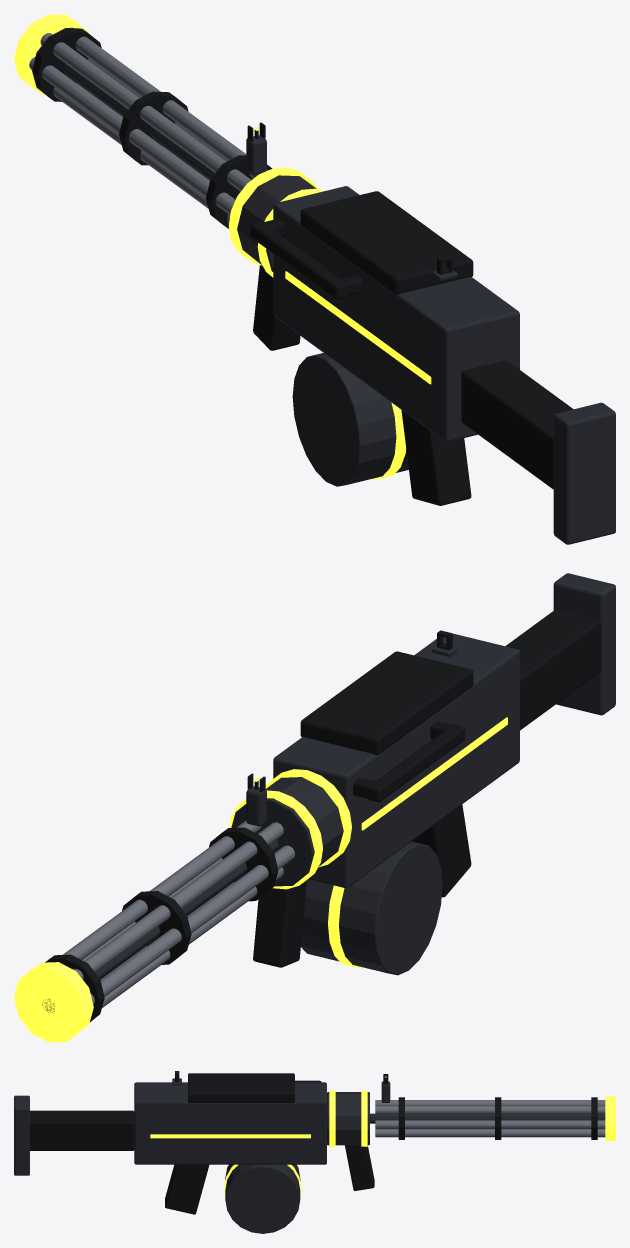
The model's file is spinlmg.glb.
The picture shows the model from 3 angles, top to bottom: view 1: azimuth 30°, elevation 25°; view 2: azimuth 150°, elevation 25°; view 3: azimuth 270°, elevation 25°; orthographic projection. The views are drawn at different scales.
Visible parts, largest first — view 1: Body, Barrels, Magazine, IronSights; view 2: Body, Barrels, Magazine, IronSights; view 3: Body, Barrels, Magazine, IronSights.
Boxes of the visible parts, left/top/right/bottom form: Body: left=228, top=167, right=615, bottom=544; Barrels: left=14, top=14, right=272, bottom=228; Magazine: left=292, top=353, right=408, bottom=486; IronSights: left=246, top=122, right=457, bottom=281; Body: left=229, top=573, right=615, bottom=967; Barrels: left=14, top=820, right=294, bottom=1042; Magazine: left=301, top=841, right=442, bottom=975; IronSights: left=246, top=630, right=457, bottom=826; Body: left=14, top=1073, right=374, bottom=1214; Barrels: left=370, top=1096, right=615, bottom=1140; Magazine: left=224, top=1164, right=301, bottom=1233; IronSights: left=172, top=1071, right=390, bottom=1102.
Size of the model in its own units: 0.131 by 0.312 by 1.12.
